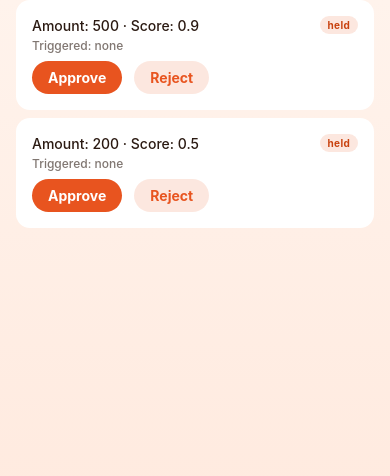
Scenario: only disables the row being approved, not other rows, while the mutation is in flight
Check: the text "Amount: 500 · Score: 0.9" is shown, box x1=32 y1=16 x2=199 y2=34
Step 1. Click the button "Approve" below "500" → (77, 78), box x1=32 y1=61 x2=122 y2=94
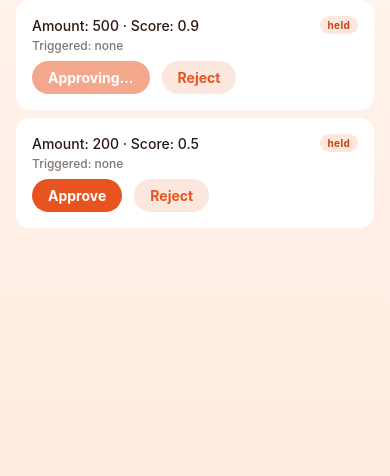
Check: the text "Approve" is shown once, box x1=48 y1=187 x2=106 y2=204
Check: the text "Approving…" is shown, box x1=48 y1=69 x2=134 y2=86
